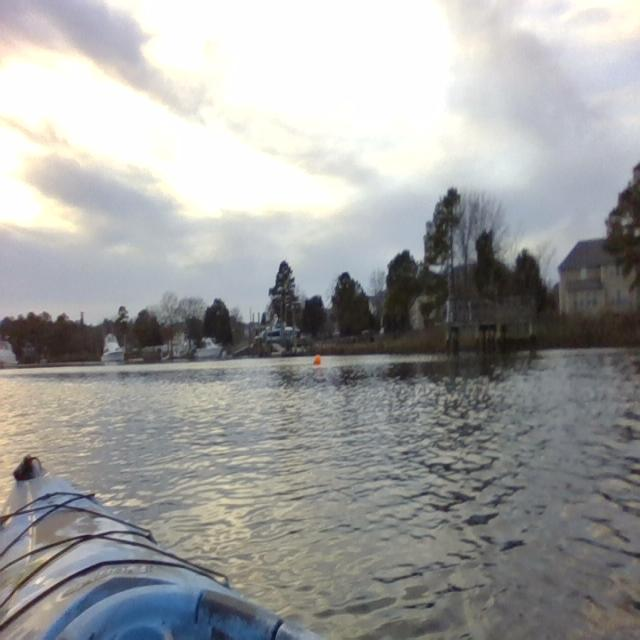Buoy: (314, 353, 324, 366)
